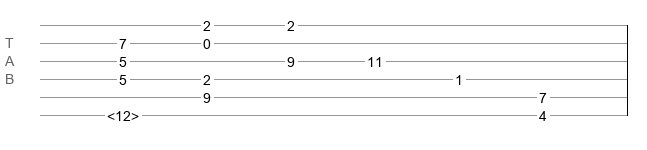0: (203, 36, 211, 46)
1: (455, 72, 463, 82)
11: (367, 54, 383, 64)
2: (203, 72, 211, 82), (203, 18, 211, 28), (287, 18, 295, 28)
4: (539, 108, 547, 118)
5: (119, 54, 127, 64), (119, 72, 127, 82)
7: (119, 36, 127, 46), (539, 90, 547, 100)
9: (203, 90, 211, 100), (287, 54, 295, 64)
harmonic: (107, 108, 139, 118)
